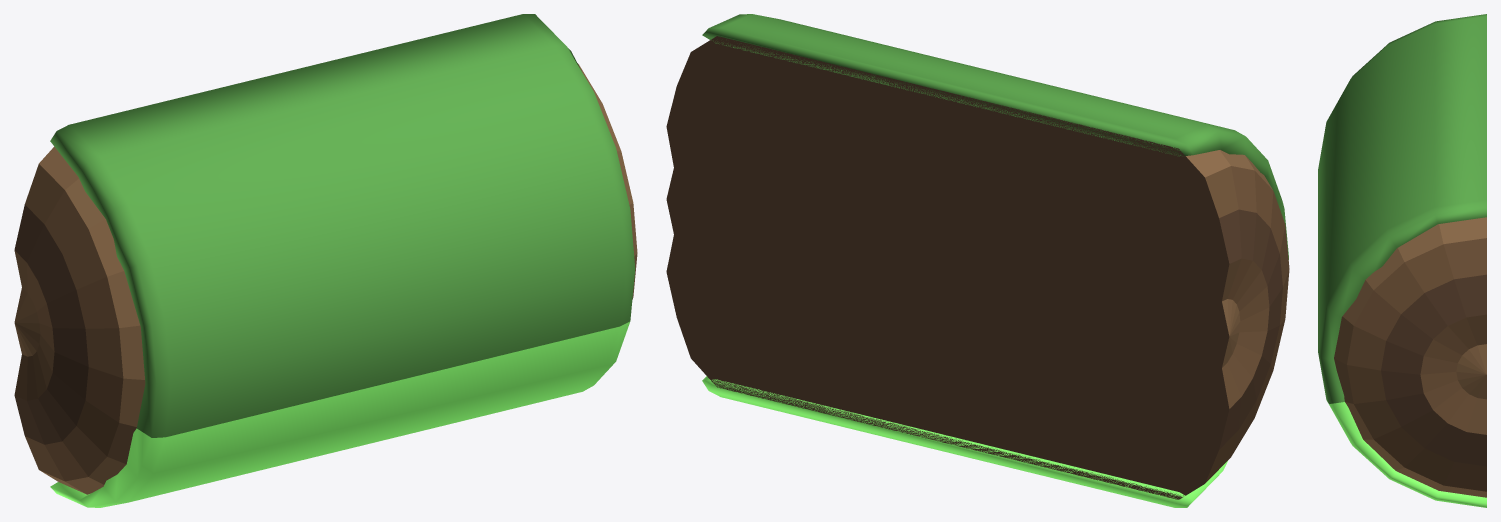
File: bough-slab-cap.glb
The picture shows the model from 3 angles, left to right: view 1: azimuth 30°, elevation 25°; view 2: azimuth 150°, elevation 25°; view 3: azimuth 270°, elevation 25°; orthographic projection. The views are drawn at different scales.
Parts seen in each view (by area): view 1: bough-slab-cap; view 2: bough-slab-cap; view 3: bough-slab-cap.
Boxes of the visible parts, <box> form: bough-slab-cap: <box>14,14,637,507</box>; bough-slab-cap: <box>666,14,1289,507</box>; bough-slab-cap: <box>1318,14,1486,507</box>.
Bounding box in the file's own units: 30 × 18.8 × 9.4.
